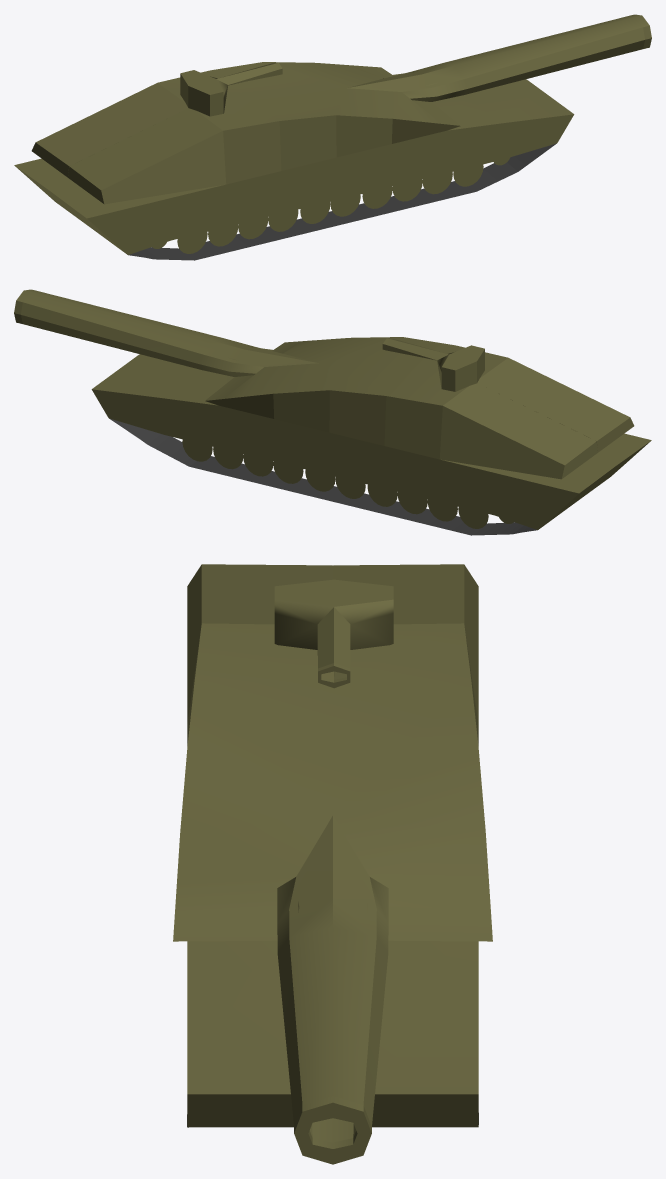
File: Tank.fbx
3 views of the same model, one above another, from view 1: azimuth 30°, elevation 25°; view 2: azimuth 150°, elevation 25°; view 3: azimuth 270°, elevation 25° (orthographic). The views are drawn at different scales.
Visible parts, largest first — view 1: pasted__polySurface74; view 2: pasted__polySurface74, pasted__polySurface86; view 3: pasted__polySurface74.
Boxes of the visible parts, x1,y1,x2,y2 form: pasted__polySurface74: (14, 14, 651, 260); pasted__polySurface74: (14, 289, 651, 535); pasted__polySurface86: (189, 456, 333, 497); pasted__polySurface74: (173, 564, 492, 1164).
Size of the model in its own units: 9.86 by 2.25 by 2.31.
